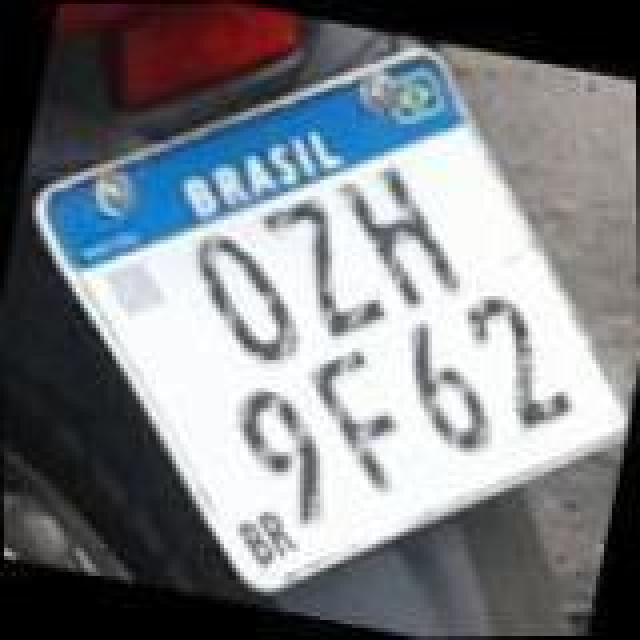2: (442, 280, 590, 440)
6: (370, 312, 514, 468)
9: (202, 372, 346, 540)
F: (282, 330, 426, 502)
H: (316, 152, 480, 324)
O: (168, 220, 328, 376)
Z: (238, 178, 410, 350)
